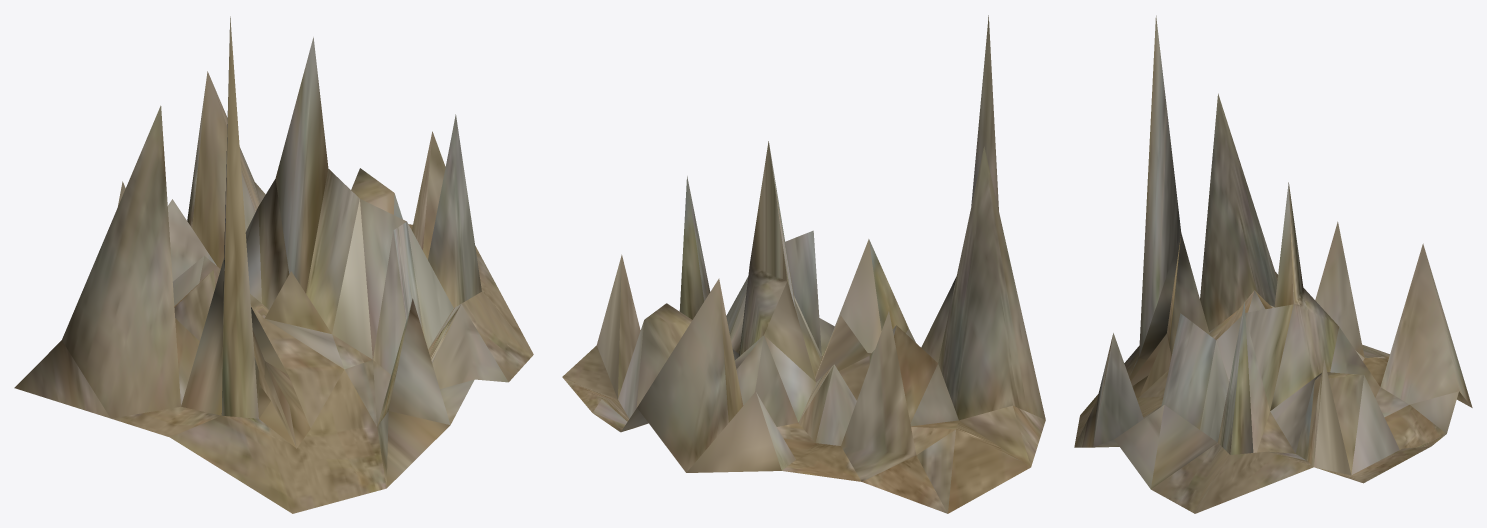
Rendered from sand_rocks_small_01_lo.glb.
3 renders of one model, left to right at view 1: azimuth 30°, elevation 25°; view 2: azimuth 150°, elevation 25°; view 3: azimuth 270°, elevation 25°, orthographic. The views are drawn at different scales.
Parts seen in each view (by area): view 1: sand_rocks_small_01_lo; view 2: sand_rocks_small_01_lo; view 3: sand_rocks_small_01_lo.
Boxes of the visible parts, box(x1,y1,x2,y2) form: sand_rocks_small_01_lo: box(14, 16, 533, 513); sand_rocks_small_01_lo: box(562, 15, 1045, 513); sand_rocks_small_01_lo: box(1074, 15, 1472, 513).
Bounding box in the file's own units: 0.9287 × 0.8778 × 0.8036.
Materials: 1 (1 with a texture image).
